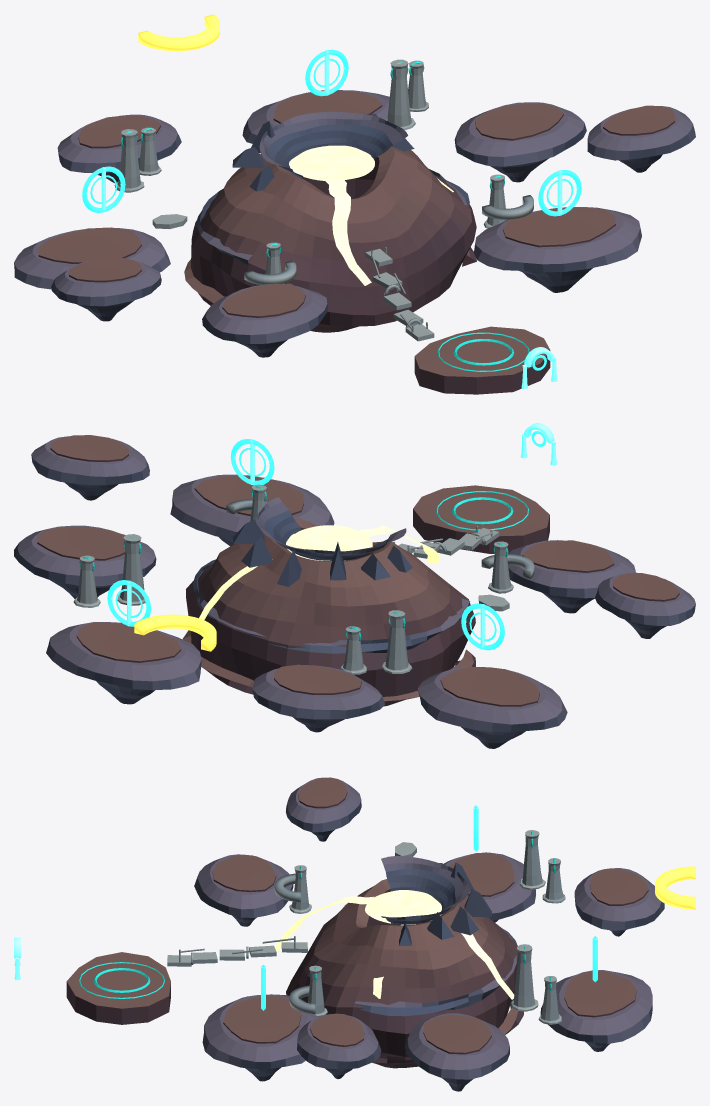
Rendered from volcanic-archipelago-low.glb.
3 views of the same model, one above another, from view 1: azimuth 30°, elevation 25°; view 2: azimuth 150°, elevation 25°; view 3: azimuth 270°, elevation 25° (orthographic). The views are drawn at different scales.
Parts seen in each view (by area): view 1: ObsidianIslands, VolcanoCaldera, LandingPad, CoolingRuins, LavaSurface, BrokenBridge, EscapeGate, CoolingSeal_3, CoolingSeal_2, CoolingSeal_1, ExpeditionBeacon; view 2: ObsidianIslands, VolcanoCaldera, LandingPad, CoolingRuins, LavaSurface, BrokenBridge, EscapeGate, CoolingSeal_1, CoolingSeal_2, CoolingSeal_3, ExpeditionBeacon; view 3: ObsidianIslands, VolcanoCaldera, LandingPad, CoolingRuins, LavaSurface, BrokenBridge, EscapeGate.
Part boxes in pixels (bbox=[...]): ObsidianIslands: bbox=[14, 90, 695, 357]; VolcanoCaldera: bbox=[184, 111, 476, 332]; LandingPad: bbox=[414, 326, 550, 394]; CoolingRuins: bbox=[114, 59, 533, 284]; LavaSurface: bbox=[289, 145, 453, 285]; BrokenBridge: bbox=[152, 214, 434, 341]; EscapeGate: bbox=[138, 14, 219, 51]; CoolingSeal_3: bbox=[305, 49, 348, 96]; CoolingSeal_2: bbox=[538, 170, 581, 216]; CoolingSeal_1: bbox=[82, 166, 125, 212]; ExpeditionBeacon: bbox=[521, 347, 557, 389]; ObsidianIslands: bbox=[14, 435, 695, 748]; VolcanoCaldera: bbox=[182, 497, 475, 706]; LandingPad: bbox=[413, 485, 549, 553]; CoolingRuins: bbox=[73, 484, 534, 674]; LavaSurface: bbox=[199, 525, 439, 619]; BrokenBridge: bbox=[393, 526, 509, 611]; EscapeGate: bbox=[134, 614, 216, 651]; CoolingSeal_1: bbox=[461, 603, 504, 650]; CoolingSeal_2: bbox=[230, 439, 274, 485]; CoolingSeal_3: bbox=[107, 580, 150, 626]; ExpeditionBeacon: bbox=[520, 423, 556, 465]; ObsidianIslands: bbox=[194, 777, 664, 1091]; VolcanoCaldera: bbox=[286, 855, 523, 1068]; LandingPad: bbox=[66, 952, 170, 1024]; CoolingRuins: bbox=[274, 830, 565, 1024]; LavaSurface: bbox=[274, 890, 514, 999]; BrokenBridge: bbox=[167, 842, 416, 966]; EscapeGate: bbox=[655, 866, 695, 909].
Bounding box in the file's own units: 185 × 49.81 × 183.
